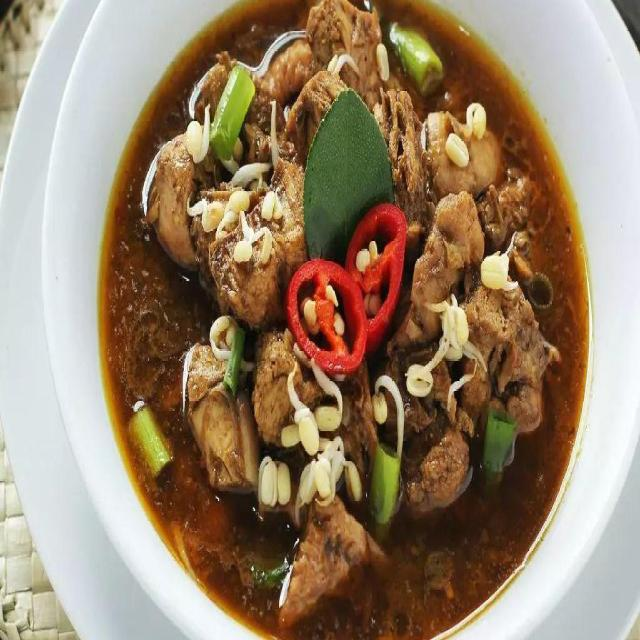Rawon: (99, 1, 568, 597)
